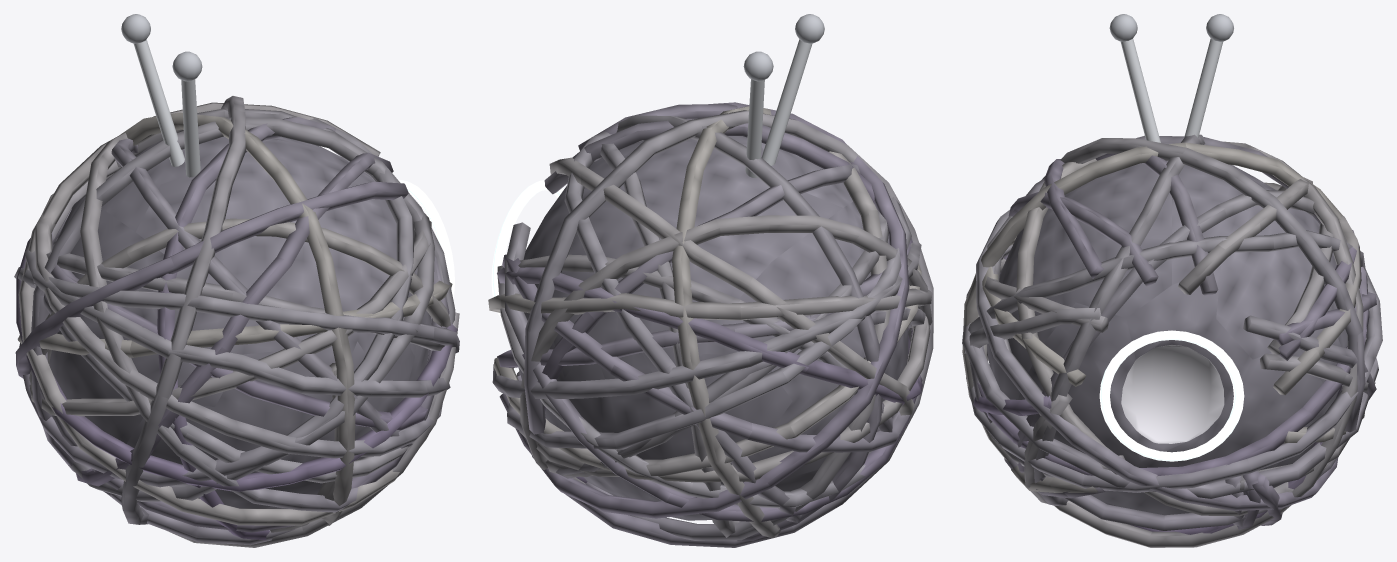
The model's file is forget_body.glb.
3 views of the same model, side by side, from view 1: azimuth 30°, elevation 25°; view 2: azimuth 150°, elevation 25°; view 3: azimuth 270°, elevation 25° (orthographic). The views are drawn at different scales.
Visible parts, largest first — view 1: forget_body; view 2: forget_body; view 3: forget_body.
Boxes of the visible parts, bbox=[...] form: forget_body: bbox=[14, 14, 459, 547]; forget_body: bbox=[488, 14, 933, 547]; forget_body: bbox=[962, 14, 1382, 547].
Bounding box in the file's own units: 1.89 × 2.4 × 1.94.
6 materials, 2 textured.
